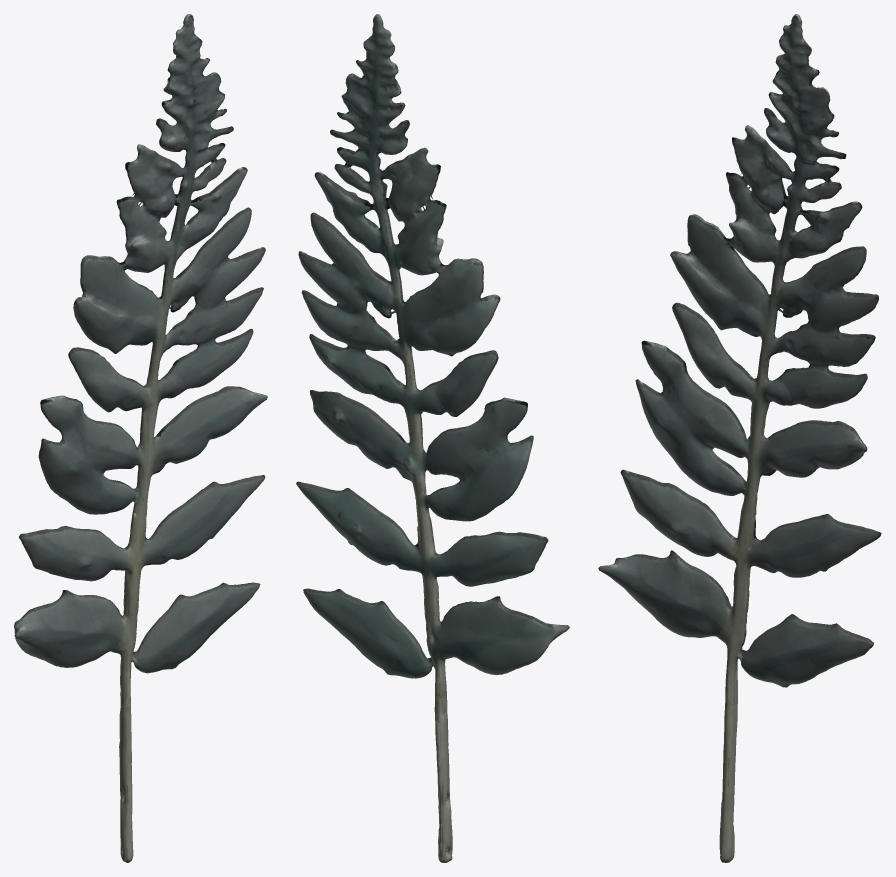
Rendered from apex-flora-helecho.glb.
3 renders of one model, left to right at view 1: azimuth 30°, elevation 25°; view 2: azimuth 150°, elevation 25°; view 3: azimuth 330°, elevation 25°, orthographic. The views are drawn at different scales.
Bounding box in the file's own units: 0.6588 × 2 × 0.0762.
Materials: 1 (1 with a texture image).
